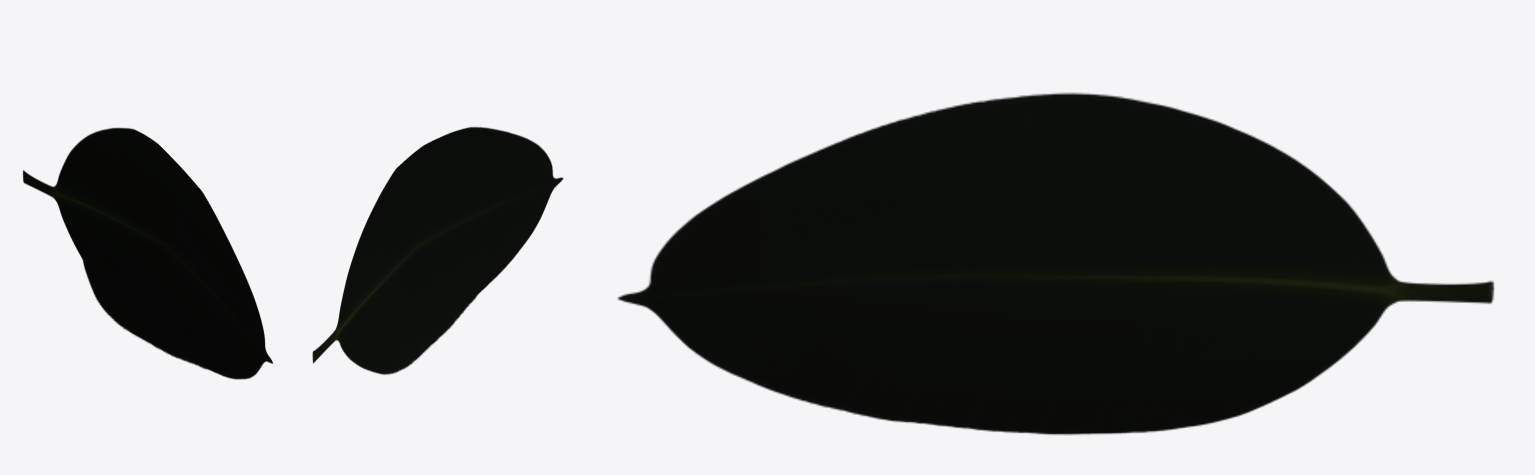
Rendered from leaf.glb.
3 renders of one model, left to right at view 1: azimuth 30°, elevation 25°; view 2: azimuth 150°, elevation 25°; view 3: azimuth 270°, elevation 25°, orthographic. The views are drawn at different scales.
Visible parts, largest first — view 1: Leaf_2; view 2: Leaf_2; view 3: Leaf_2.
Part boxes in pixels (box(x1,y1,x2,y2)): Leaf_2: box(23, 127, 272, 379); Leaf_2: box(312, 127, 563, 374); Leaf_2: box(618, 92, 1494, 434).
Size of the model in its own units: 0.0432 by 0.5337 by 1.
1 material, 1 textured.
